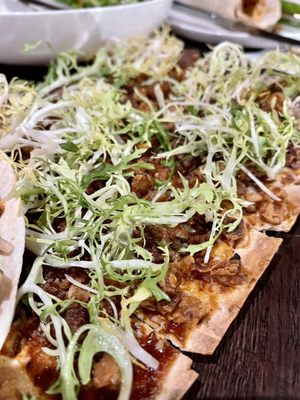sushi: (0, 0, 176, 66)
